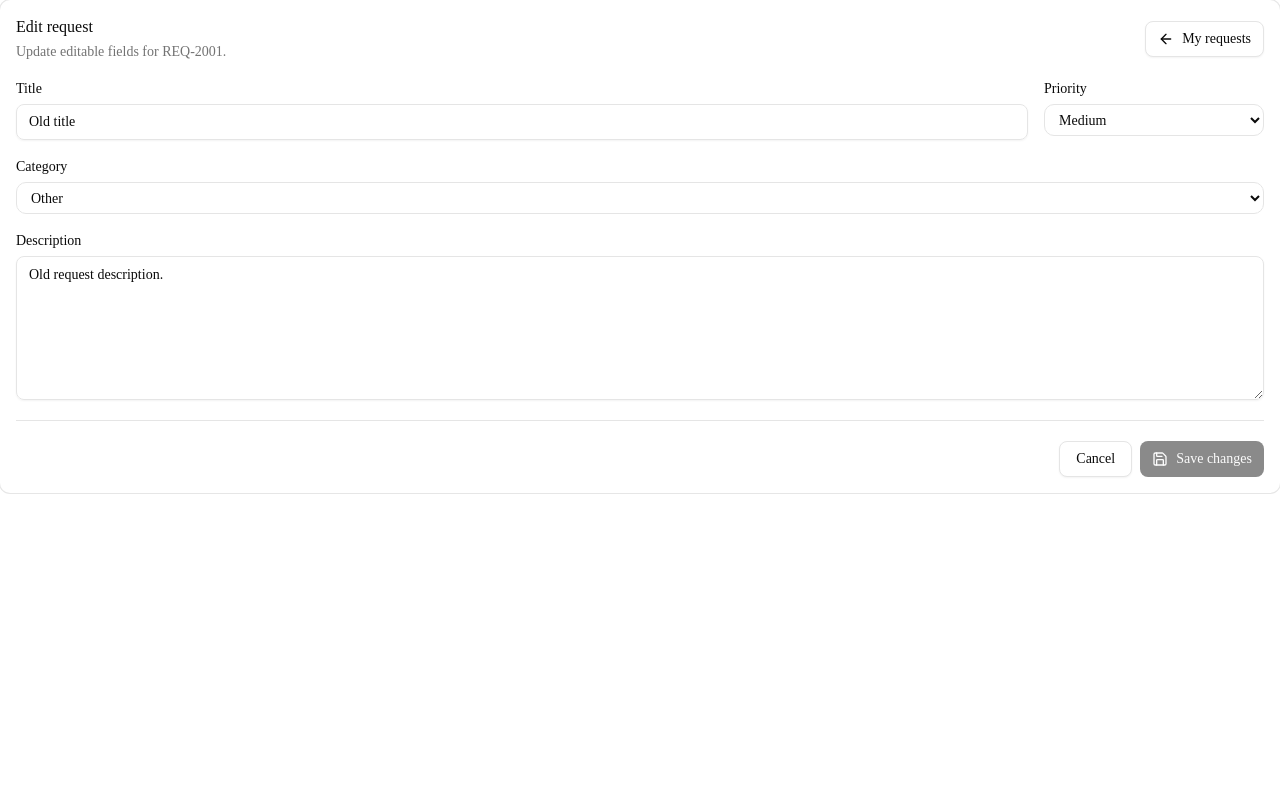
employee request forms › updates an eligible draft request
The image size is (1280, 800).
Replace the text in the field labelled "Title" with "Updated title": (522, 122) top-left (16, 104), bottom-right (1028, 140)
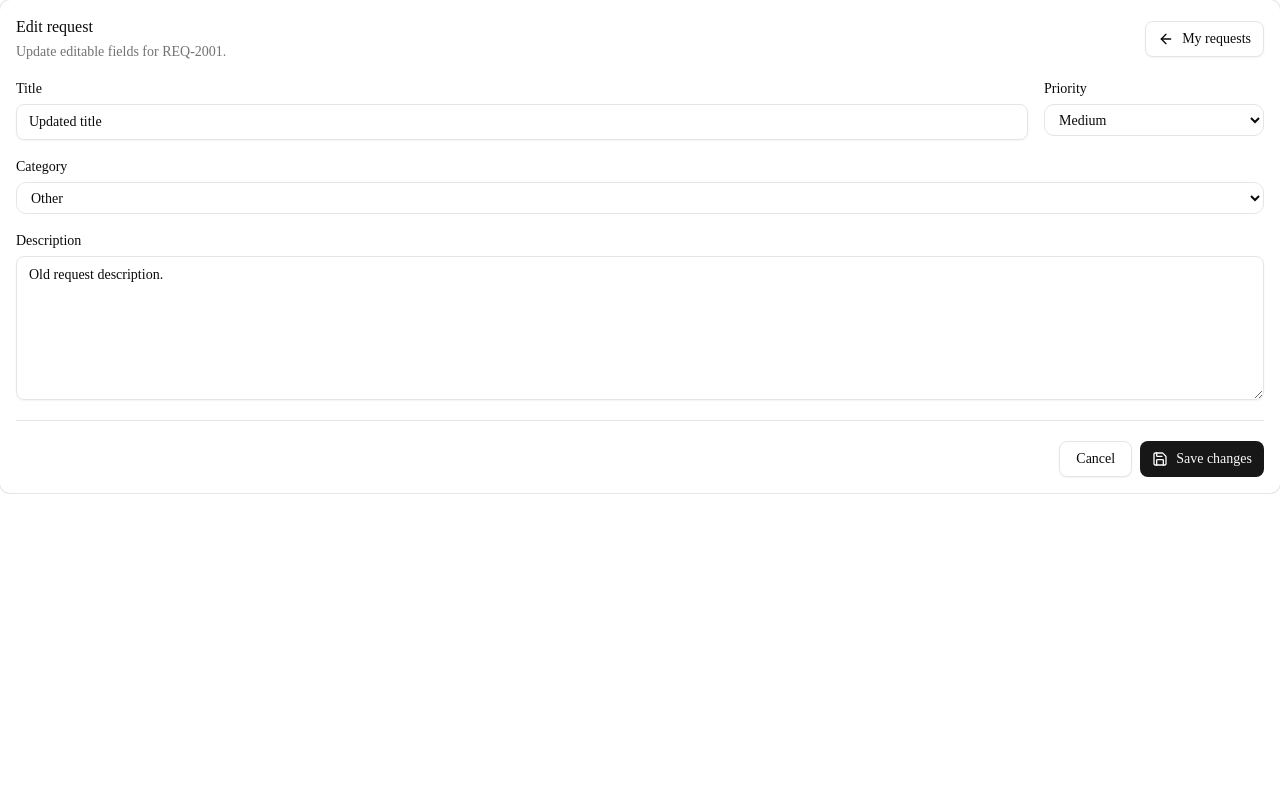
Click the button "Save changes": (1202, 459) top-left (1140, 441), bottom-right (1264, 477)
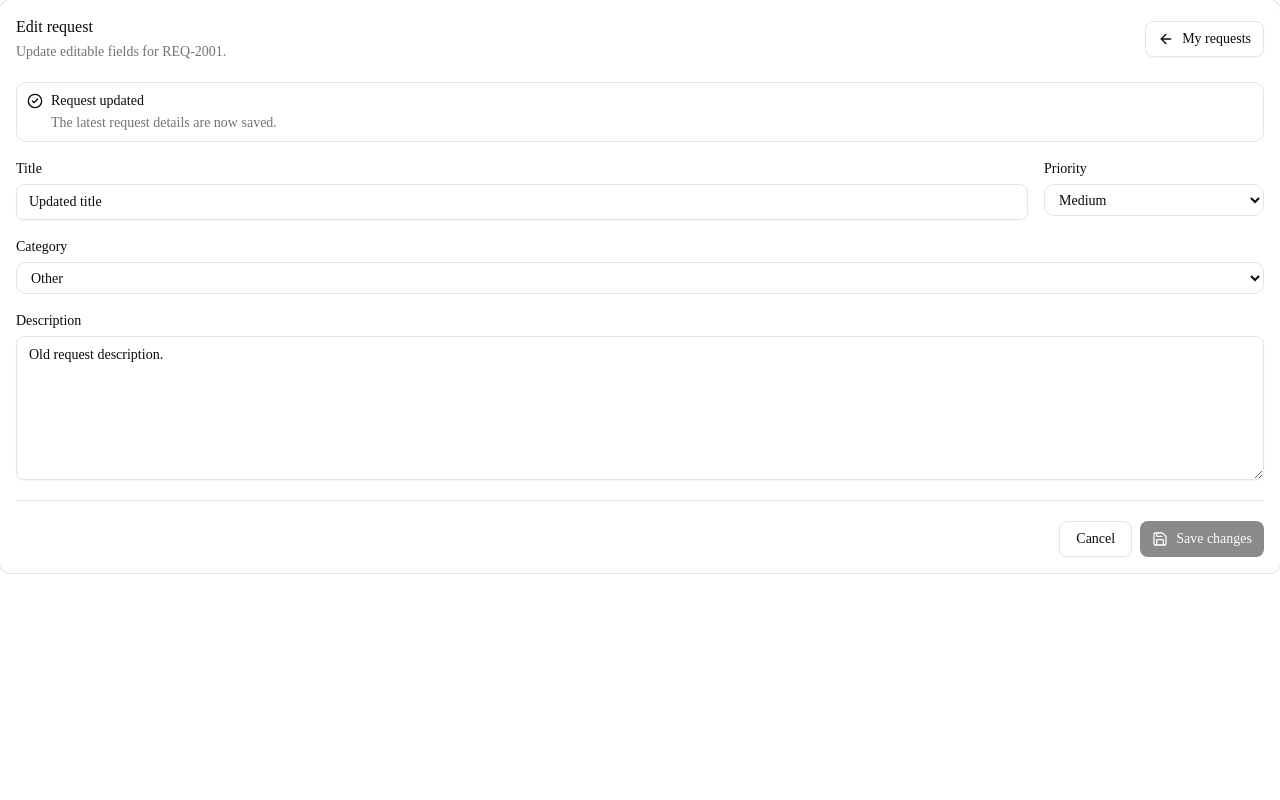
expect the text "Request updated" is shown: met, box top-left (51, 93), bottom-right (144, 108)
